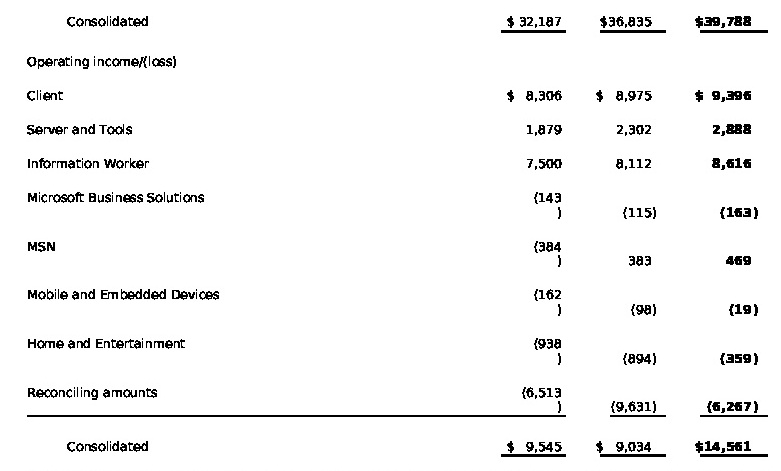table: (0, 0, 781, 471)
